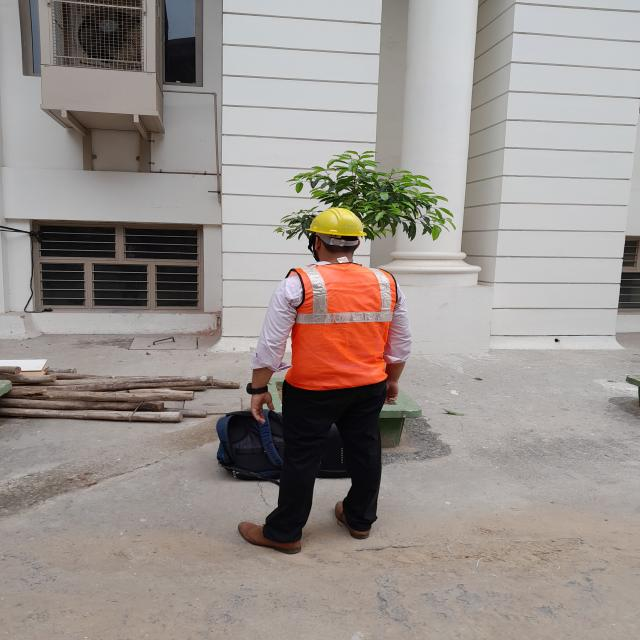safe: (248, 208, 412, 553)
